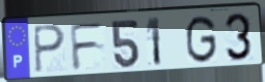1: (145, 15, 163, 70)
3: (223, 11, 255, 64)
5: (109, 19, 142, 70)
F: (68, 21, 106, 73)
G: (185, 14, 219, 66)
P: (32, 24, 67, 76)
